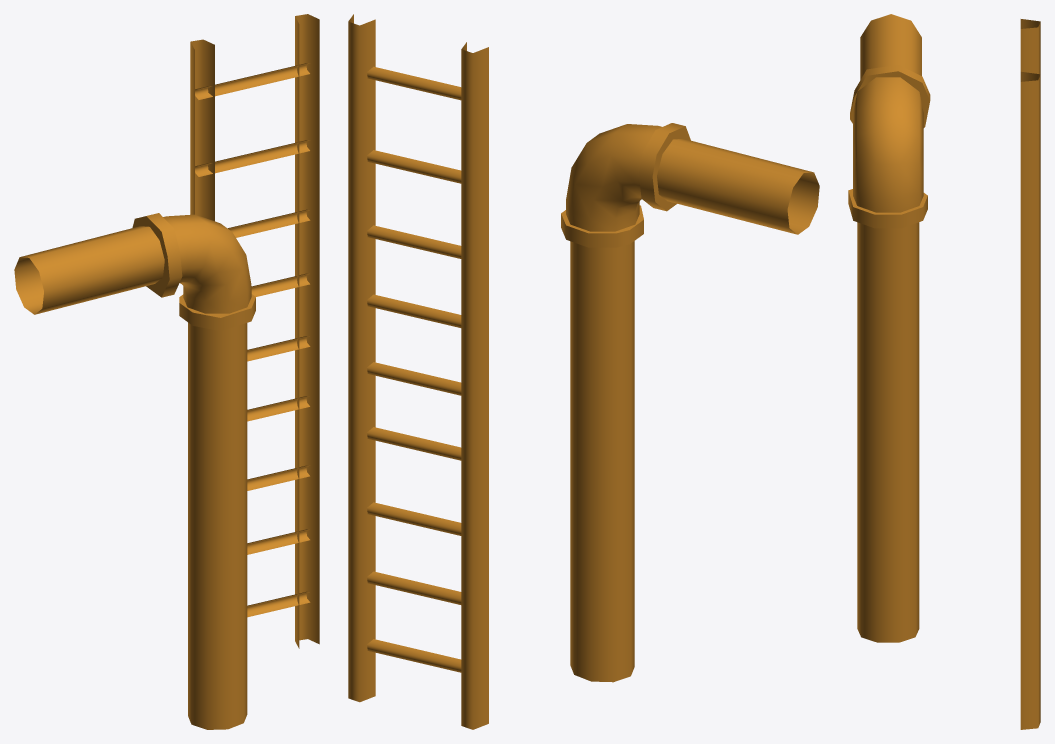
The model's file is ladder 1.FBX.
The picture shows the model from 3 angles, left to right: view 1: azimuth 30°, elevation 25°; view 2: azimuth 150°, elevation 25°; view 3: azimuth 270°, elevation 25°; orthographic projection. The views are drawn at different scales.
Visible parts, largest first — view 1: ladder; view 2: ladder; view 3: ladder.
Boxes of the visible parts, x1=… form: ladder: x1=14, y1=14, x2=319, y2=729; ladder: x1=348, y1=14, x2=819, y2=729; ladder: x1=848, y1=14, x2=1040, y2=729.
Bounding box in the file's own units: 59.16 × 100 × 26.91.
